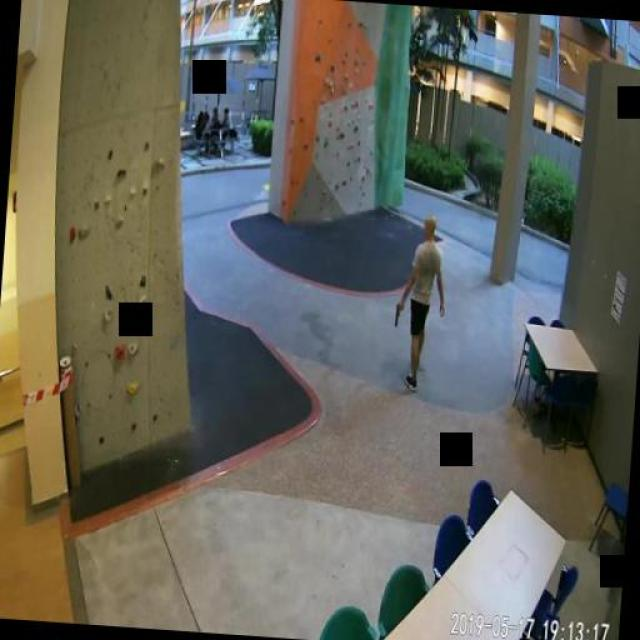gun: (393, 301, 402, 325)
